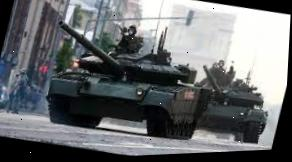tank: (27, 0, 230, 151), (177, 48, 288, 151)
